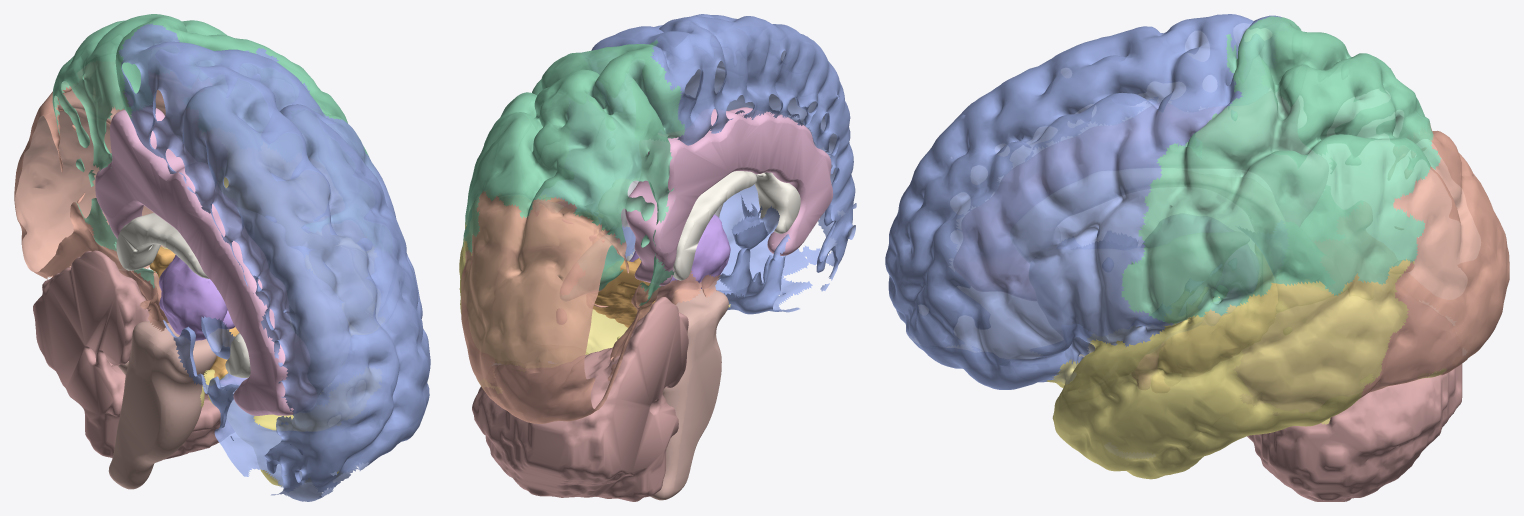
Rendered from brain_mni.glb.
3 renders of one model, left to right at view 1: azimuth 30°, elevation 25°; view 2: azimuth 150°, elevation 25°; view 3: azimuth 270°, elevation 25°, orthographic. The views are drawn at different scales.
Parts seen in each view (by area): view 1: frontal, cingulate, cerebellum_cut, occipital, parietal, brainstem, corpus_callosum, thalamus, insula, hippocampus, temporal; view 2: frontal, occipital, parietal, cerebellum_cut, cingulate, brainstem, corpus_callosum, hippocampus, thalamus, temporal, insula; view 3: frontal, parietal, temporal, occipital, cerebellum_cut, cingulate, insula, corpus_callosum, hippocampus.
Part boxes in pixels (x1,y1,x2,y2): frontal: [118, 23, 430, 501]; cingulate: [95, 108, 316, 415]; cerebellum_cut: [33, 250, 231, 459]; occipital: [14, 76, 168, 331]; parietal: [52, 14, 370, 288]; brainstem: [108, 321, 217, 489]; corpus_callosum: [116, 213, 291, 377]; thalamus: [159, 255, 234, 340]; insula: [238, 208, 349, 411]; hippocampus: [149, 246, 239, 396]; temporal: [162, 177, 339, 486]; frontal: [579, 14, 856, 314]; occipital: [461, 190, 720, 423]; parietal: [462, 39, 685, 305]; cerebellum_cut: [472, 297, 688, 501]; cingulate: [625, 107, 833, 285]; brainstem: [650, 289, 728, 500]; corpus_callosum: [639, 171, 800, 280]; hippocampus: [587, 258, 655, 327]; thalamus: [629, 214, 730, 299]; temporal: [459, 198, 730, 386]; insula: [600, 179, 723, 261]; frontal: [885, 14, 1282, 389]; parietal: [1121, 16, 1441, 323]; temporal: [1046, 258, 1446, 479]; occipital: [1327, 124, 1509, 397]; cerebellum_cut: [1239, 277, 1462, 501]; cingulate: [955, 93, 1327, 299]; insula: [1030, 233, 1248, 363]; corpus_callosum: [1010, 168, 1283, 262]; hippocampus: [1152, 245, 1277, 391].
Size of the model in its own units: 1.43 by 2.89 by 3.61.
